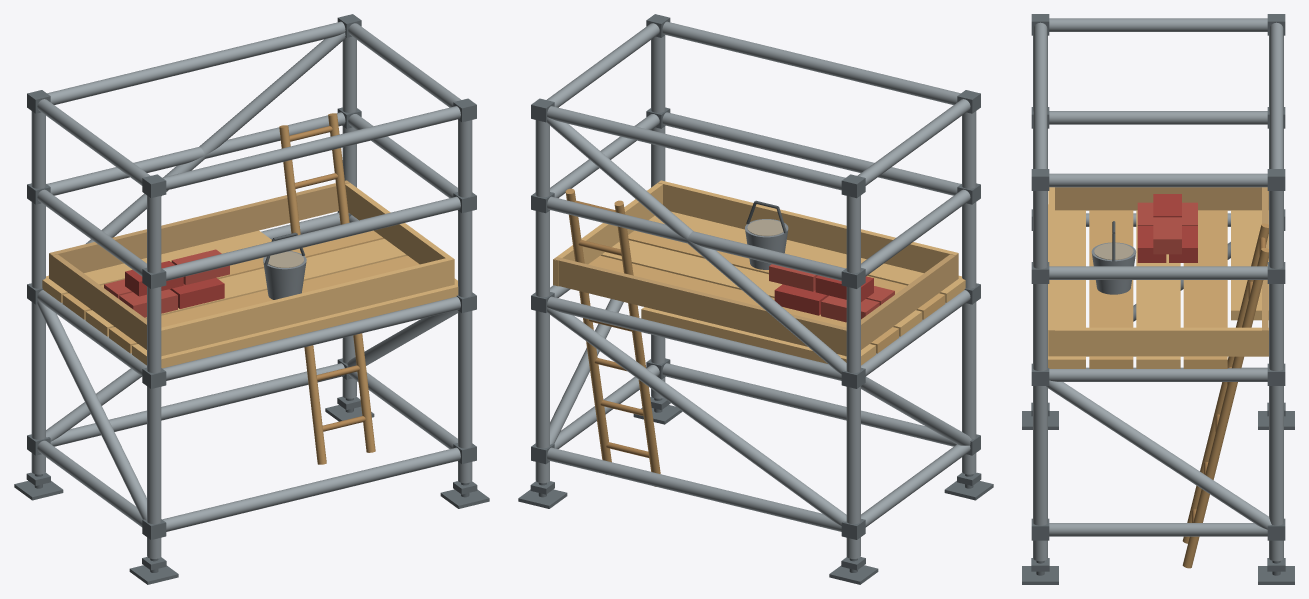
The model's file is scaffold.glb.
3 views of the same model, side by side, from view 1: azimuth 30°, elevation 25°; view 2: azimuth 150°, elevation 25°; view 3: azimuth 270°, elevation 25° (orthographic). The views are drawn at different scales.
Visible parts, largest first — view 1: scaffold; view 2: scaffold; view 3: scaffold.
Boxes of the visible parts, x1=… form: scaffold: x1=14, y1=14, x2=489, y2=584; scaffold: x1=518, y1=14, x2=993, y2=584; scaffold: x1=1022, y1=14, x2=1294, y2=584.
Bounding box in the file's own units: 1.54 × 1.71 × 1.04.
